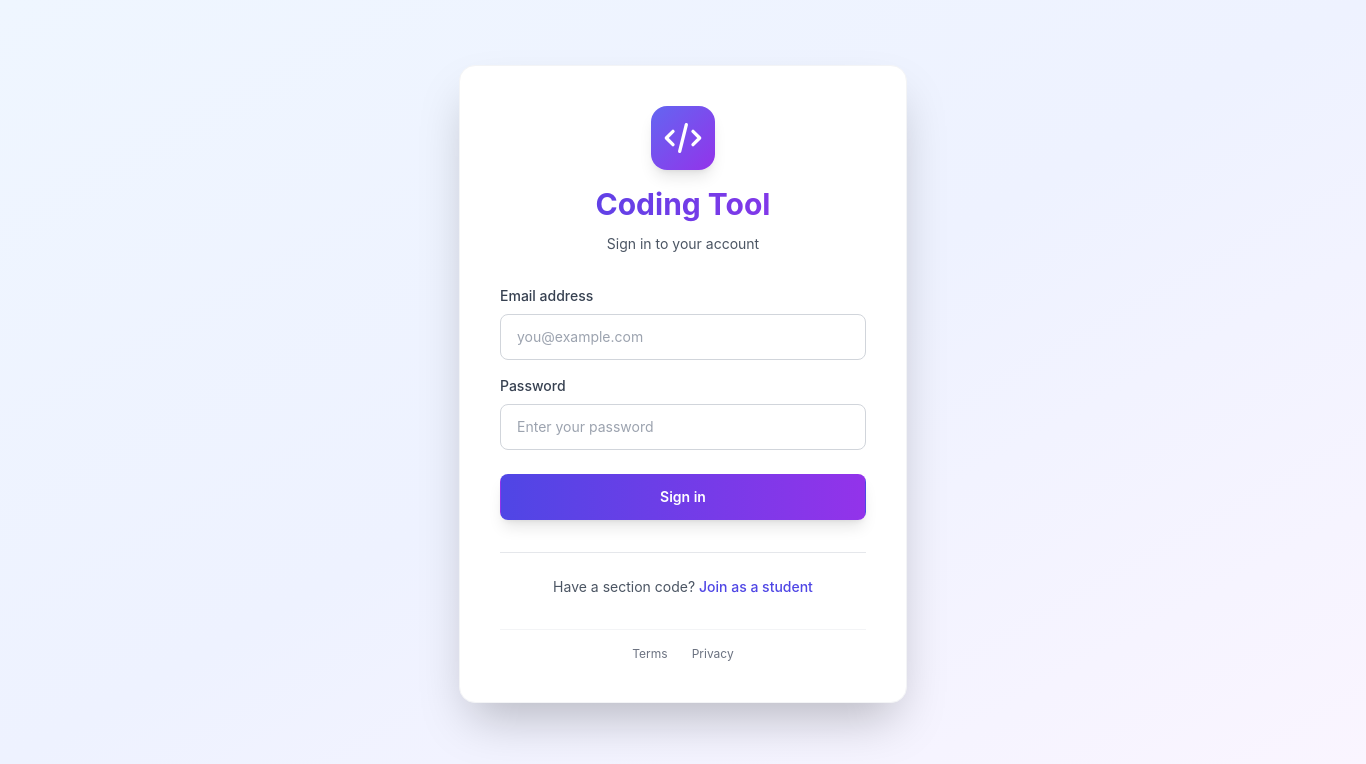
SignInPage › Error Handling › maps "not found" errors to user-friendly message
Type "test@example.com" into the field labelled "Email address" at (683, 337), box [500,314,866,360]
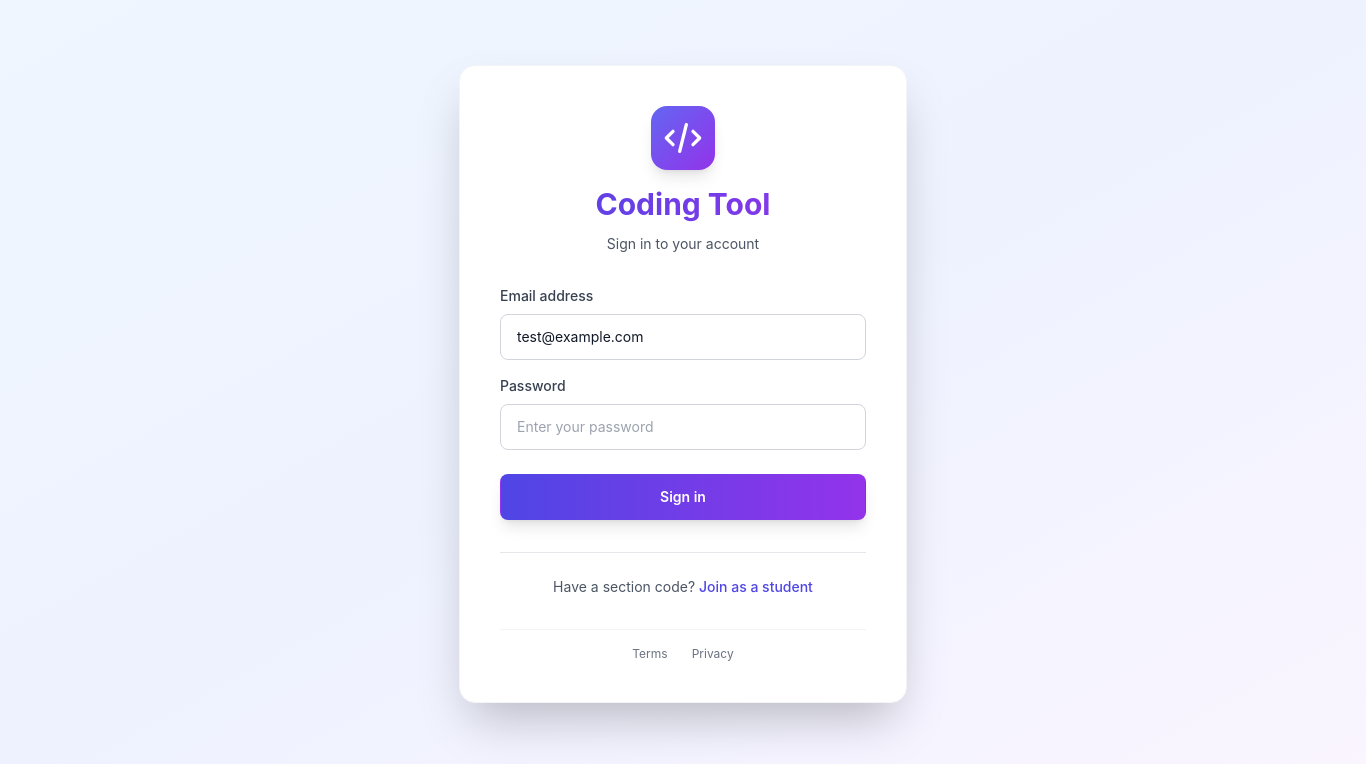
Type "password123" into the password field labelled "Password" at (683, 427), box [500,404,866,450]
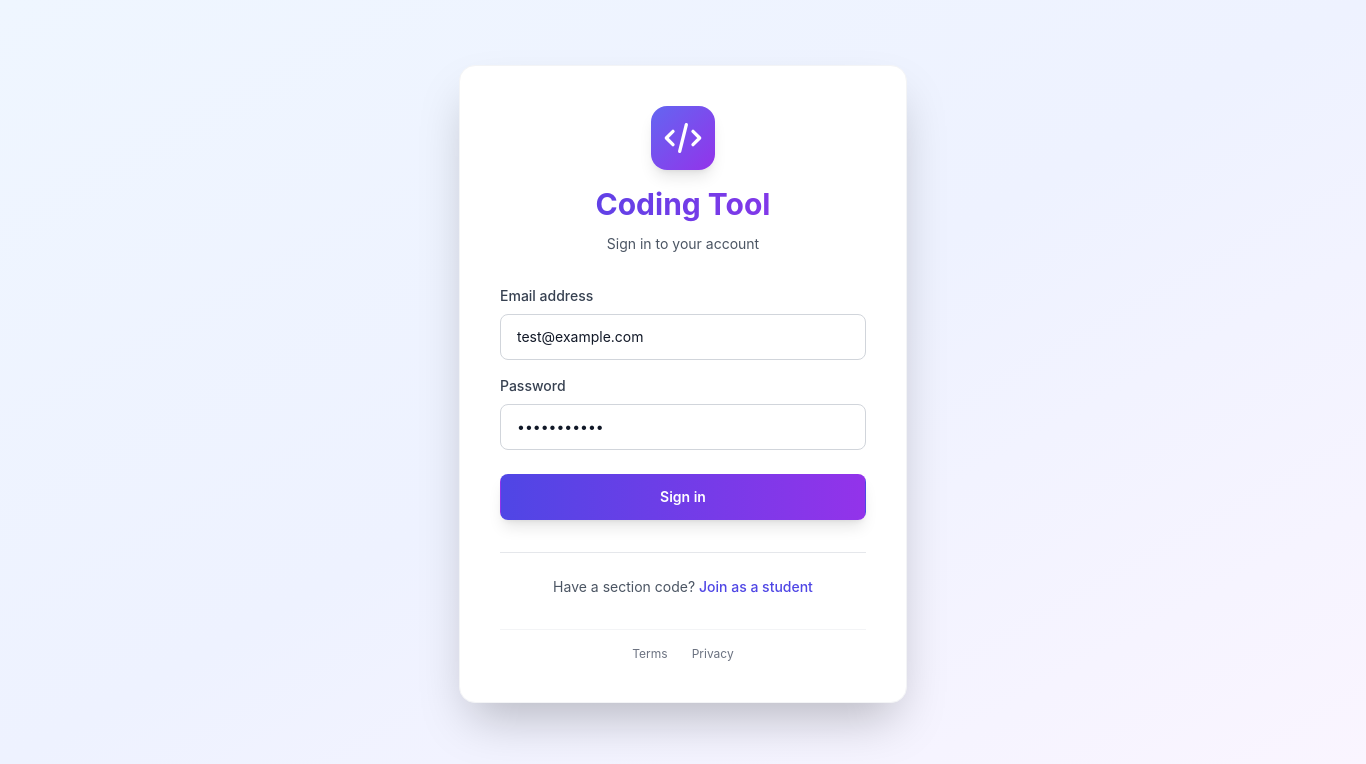
Click the button "Sign in" at (683, 497), box [500,474,866,520]
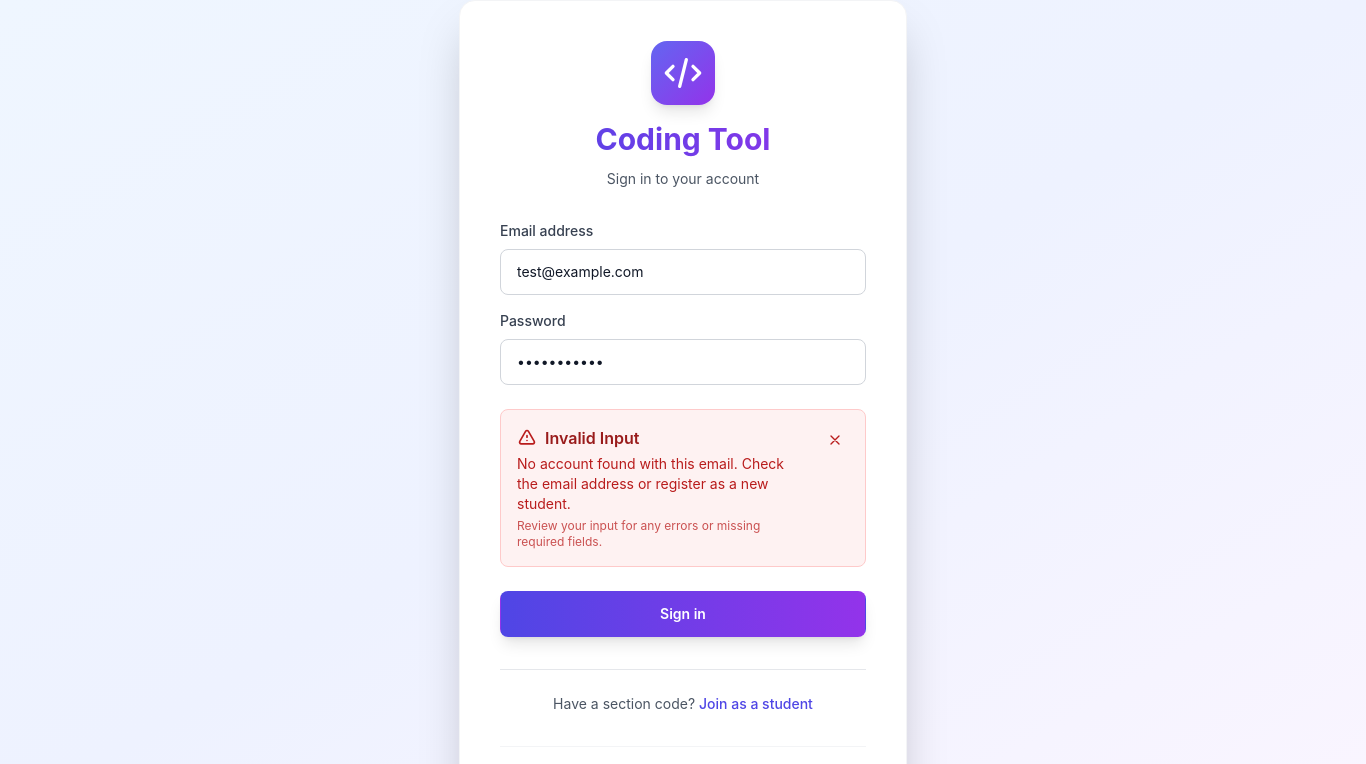
Check: the message is shown, box [500,409,866,567]
Check: the message shows "No account found with this email", box [517,455,784,512]
